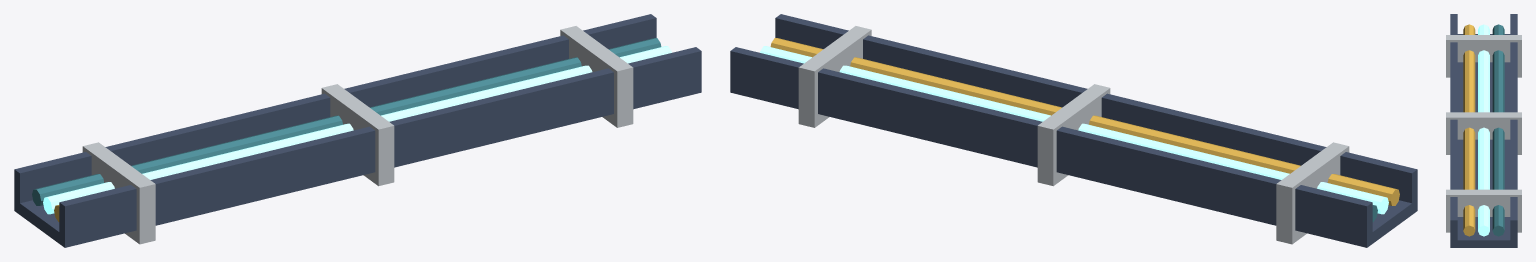
The model's file is cable_tray.glb.
3 views of the same model, side by side, from view 1: azimuth 30°, elevation 25°; view 2: azimuth 150°, elevation 25°; view 3: azimuth 270°, elevation 25° (orthographic). The views are drawn at different scales.
Parts seen in each view (by area): view 1: cable_tray_graphite_navy, cable_tray_titanium, cable_tray_teal_shell, cable_tray_emissive_cyan; view 2: cable_tray_graphite_navy, cable_tray_titanium, cable_tray_amber_accent, cable_tray_emissive_cyan; view 3: cable_tray_graphite_navy, cable_tray_titanium, cable_tray_amber_accent, cable_tray_teal_shell, cable_tray_emissive_cyan.
Boxes of the visible parts, x1,y1,x2,y2 form: cable_tray_graphite_navy: [14, 14, 701, 247]; cable_tray_titanium: [82, 26, 633, 244]; cable_tray_teal_shell: [32, 38, 661, 205]; cable_tray_emissive_cyan: [43, 46, 671, 214]; cable_tray_graphite_navy: [730, 14, 1417, 247]; cable_tray_titanium: [798, 26, 1349, 244]; cable_tray_amber_accent: [770, 38, 1399, 205]; cable_tray_emissive_cyan: [760, 46, 1388, 214]; cable_tray_graphite_navy: [1450, 14, 1517, 247]; cable_tray_titanium: [1446, 35, 1521, 232]; cable_tray_amber_accent: [1463, 24, 1475, 236]; cable_tray_teal_shell: [1492, 24, 1504, 236]; cable_tray_emissive_cyan: [1478, 24, 1489, 236].
Bounding box in the file's own units: 4 × 0.34 × 0.62.
